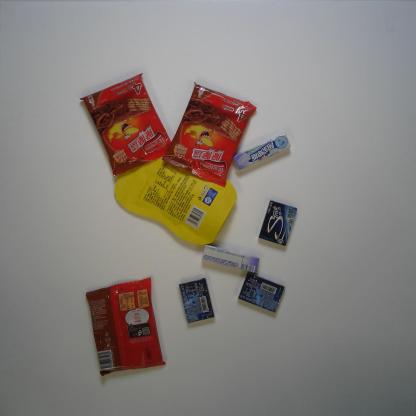Candy: (232, 132, 292, 171), (200, 244, 262, 273)
Dessert: (79, 71, 175, 177), (162, 81, 257, 188), (84, 276, 166, 378)
Dried Fruit: (113, 140, 238, 247)
Gum: (237, 271, 286, 314), (258, 198, 298, 246), (178, 276, 216, 324)
